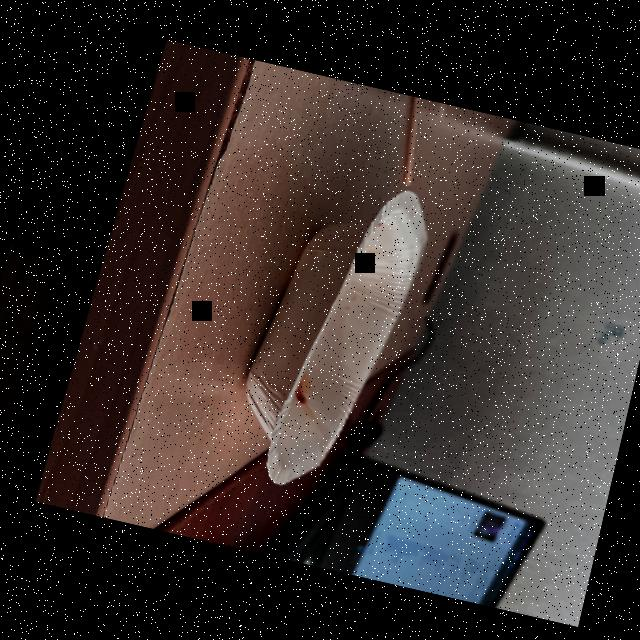cardboard_bowl: (220, 166, 440, 508)
stick: (390, 95, 432, 191)
